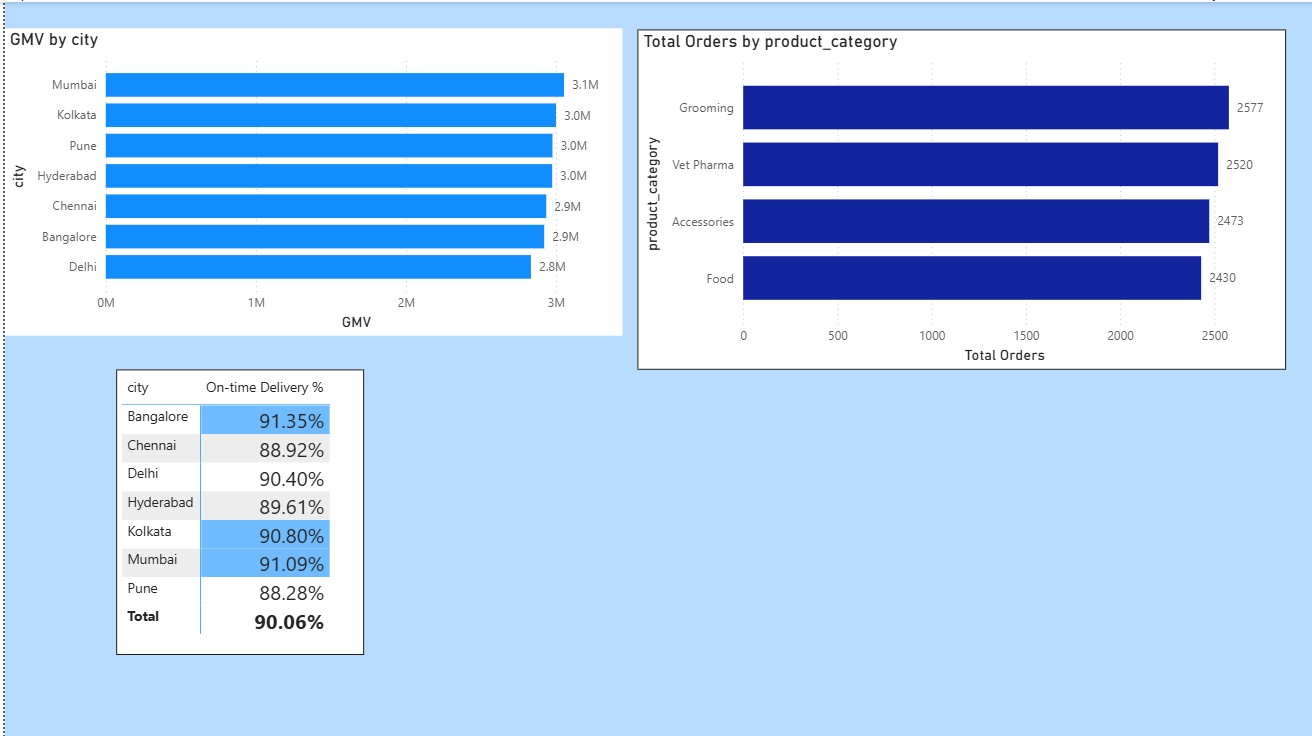

This screenshot's page, from the dashboard's own definition file:
{"tool":"powerbi","page":{"name":"Page 2","canvas":[1280,720],"ordinal":1},"visuals":[{"type":"barChart","fields":{"Y":["Date_Table.GMV"],"Category":["orders.city"]},"box":[0,26.1,603.8,300.5],"z":0},{"type":"barChart","fields":{"Y":["Date_Table.Total Orders"],"Category":["orders.product_category"]},"box":[619.1,26.7,634.5,332.7],"z":1000},{"type":"pivotTable","fields":{"Rows":["orders.city"],"Values":["Date_Table.On-time Delivery %"]},"box":[108.8,359.5,242.1,278.8],"z":2000}]}

Visuals, with their boxes in screenshot pixels (x1, y1, x2, y2), scaled from the page's 1280x720 canvas onto the 1312x736 screenshot:
barChart - Date_Table.GMV x orders.city: [0, 27, 619, 334]
barChart - Date_Table.Total Orders x orders.product_category: [635, 27, 1285, 367]
pivotTable - orders.city x Date_Table.On-time Delivery %: [112, 367, 360, 652]
